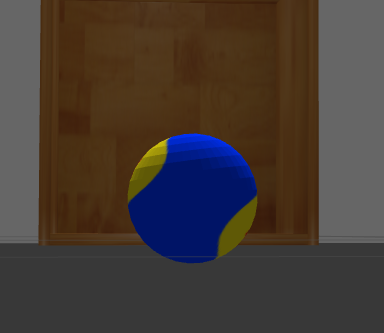toy story ball: (127, 134, 259, 262)
